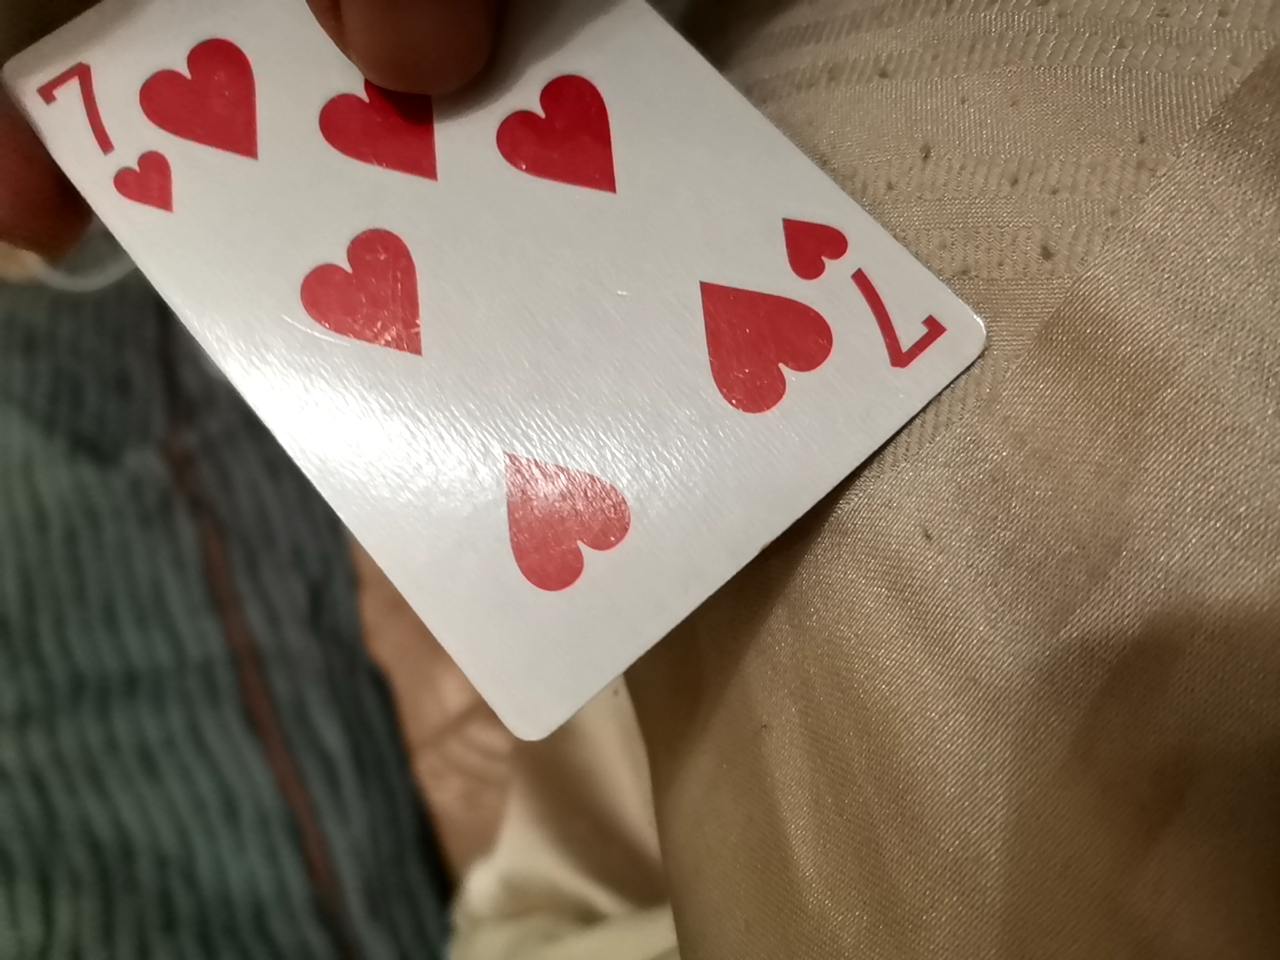hx 7: (6, 12, 973, 770)
